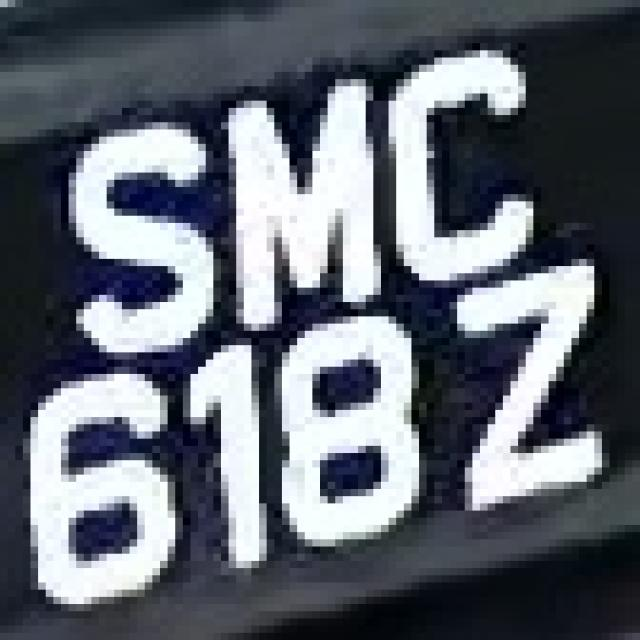1: (175, 323, 297, 582)
6: (15, 367, 183, 618)
8: (274, 295, 442, 546)
C: (374, 43, 572, 281)
M: (191, 86, 396, 331)
S: (38, 93, 229, 360)
Z: (412, 273, 617, 532)
